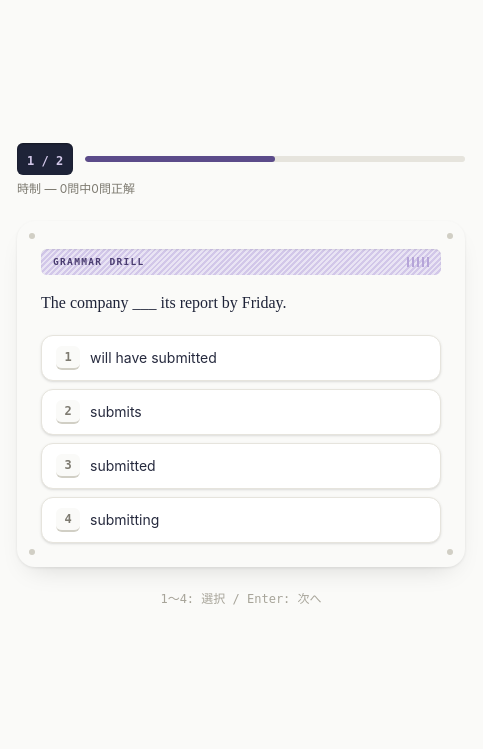
Test: GrammarDrill › progresses through all questions and shows the session-complete summary
Click the button "1 will have submitted" at (153, 358), box 41,335 -> 441,381
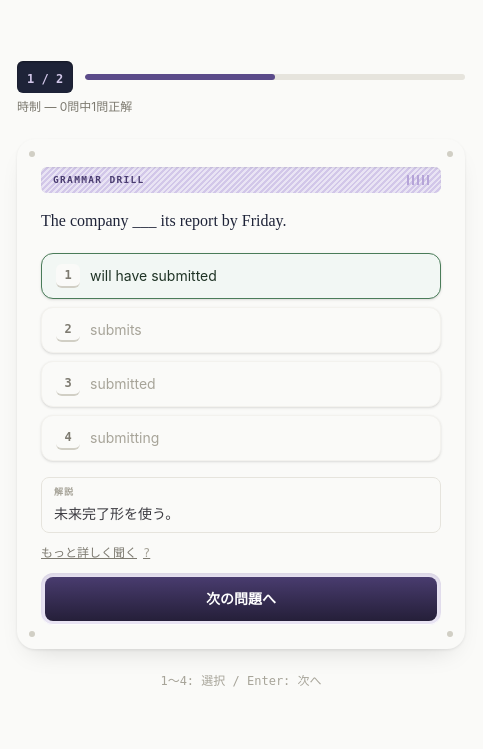
Click the button "次の問題へ" at (241, 599), box 45,577 -> 437,621
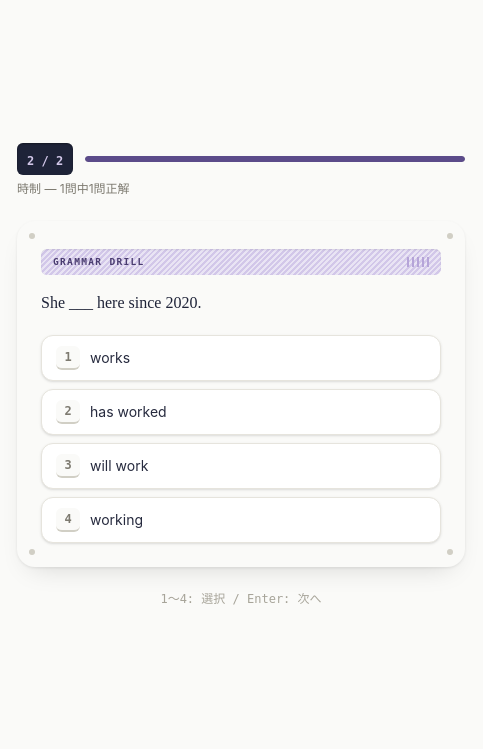
Expected: the text "She ___ here since 2020." is shown, 41,294 -> 201,311
Click the button "2 has worked" at (128, 412), box 41,389 -> 441,435
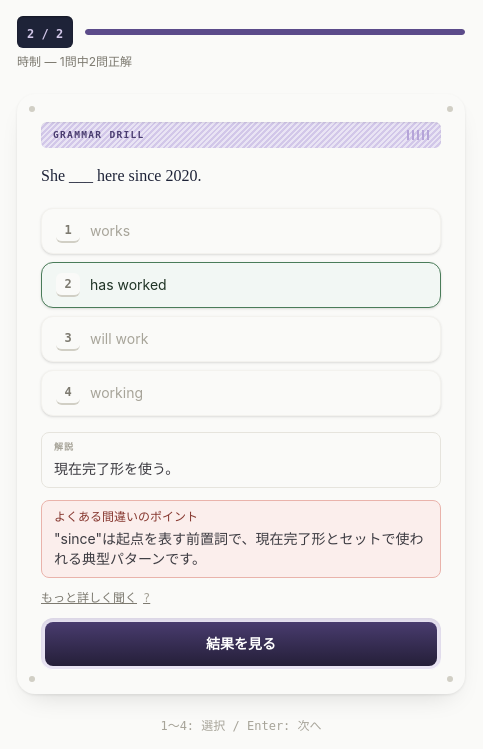
Click the button "結果を見る" at (241, 644), box 45,622 -> 437,666
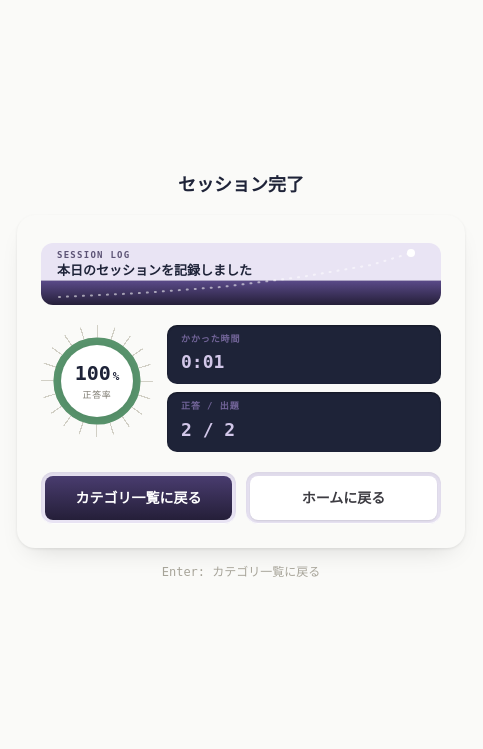
Expected: the text "2 / 2" is shown, 181,418 -> 235,440
Expected: the text "セッション完了" is shown, 178,170 -> 304,198
